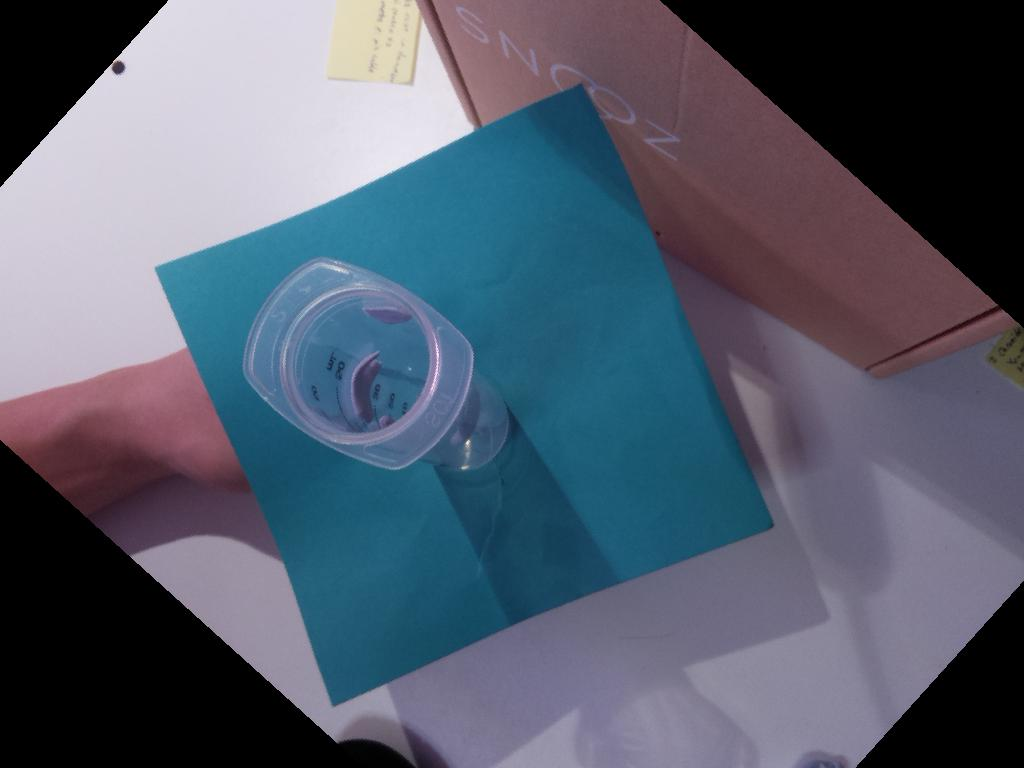dirty: (243, 258, 474, 471)
